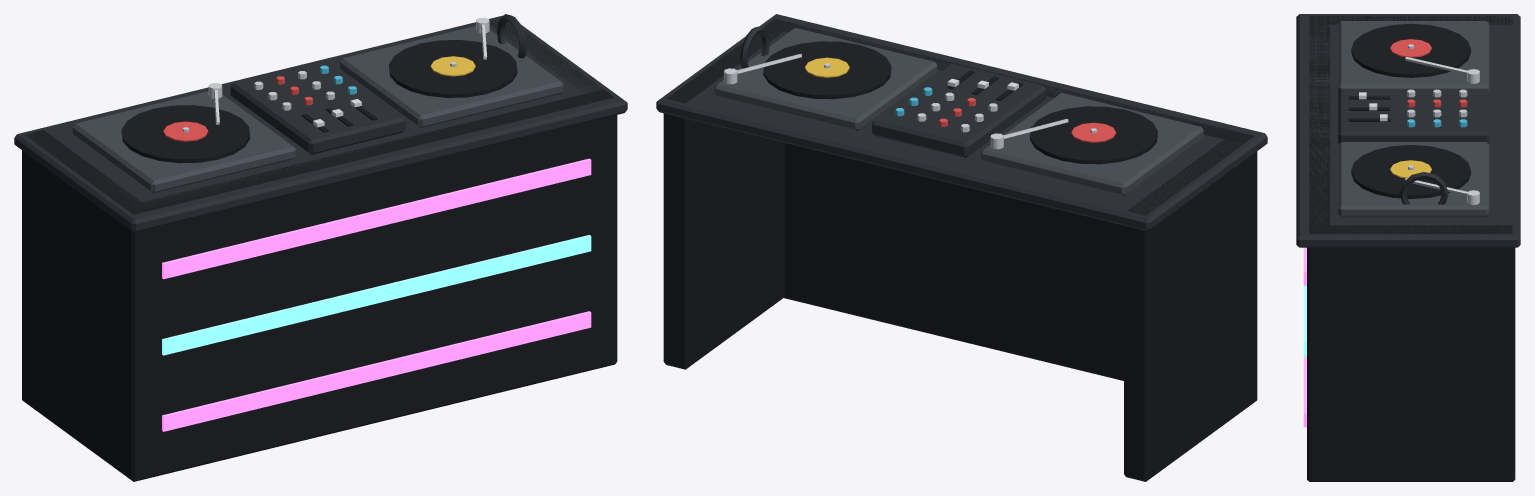
Rendered from dj_booth.glb.
3 views of the same model, side by side, from view 1: azimuth 30°, elevation 25°; view 2: azimuth 150°, elevation 25°; view 3: azimuth 270°, elevation 25° (orthographic). The views are drawn at different scales.
Visible parts, largest first — view 1: dj_booth; view 2: dj_booth; view 3: dj_booth.
Part boxes in pixels (bbox=[...]): dj_booth: bbox=[14, 14, 627, 481]; dj_booth: bbox=[656, 14, 1267, 481]; dj_booth: bbox=[1296, 14, 1520, 481].
Size of the model in its own units: 2.04 by 1.23 by 0.86.
